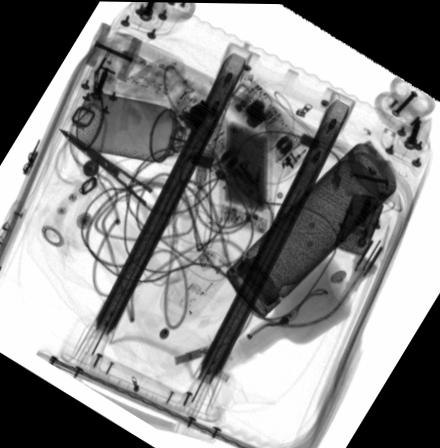Lighter: (332, 191, 383, 254)
Powerbank: (217, 117, 270, 233)
Scissors: (56, 129, 189, 234)
Sprayer: (73, 90, 206, 166)
